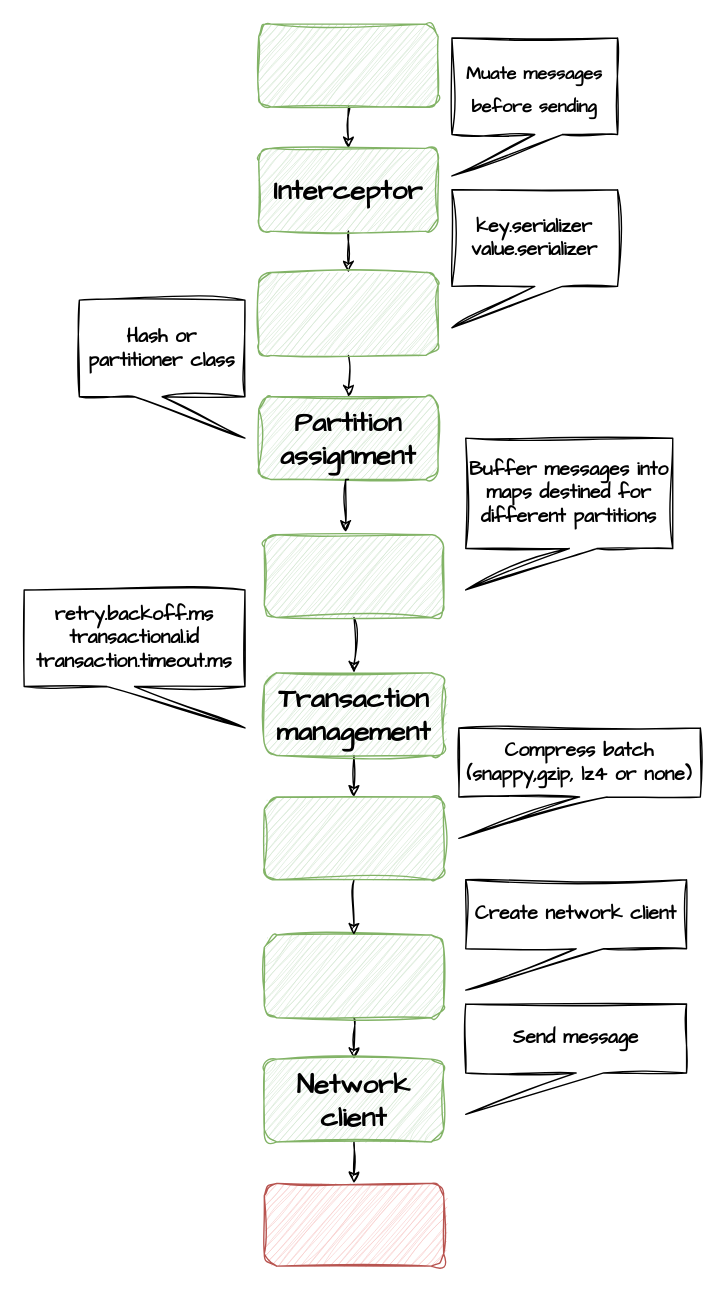
Some shapes in this 725 by 1290 pixel diagram are drawn without their labels. The centre of each missing label's shape, as x and y in pixels:
Broker socket: point 353,1224
Channel selector: point 353,976
Compression: point 353,838
Invoke producer API: point 347,65
Record Accumulator: point 353,575
Serialization: point 347,313
